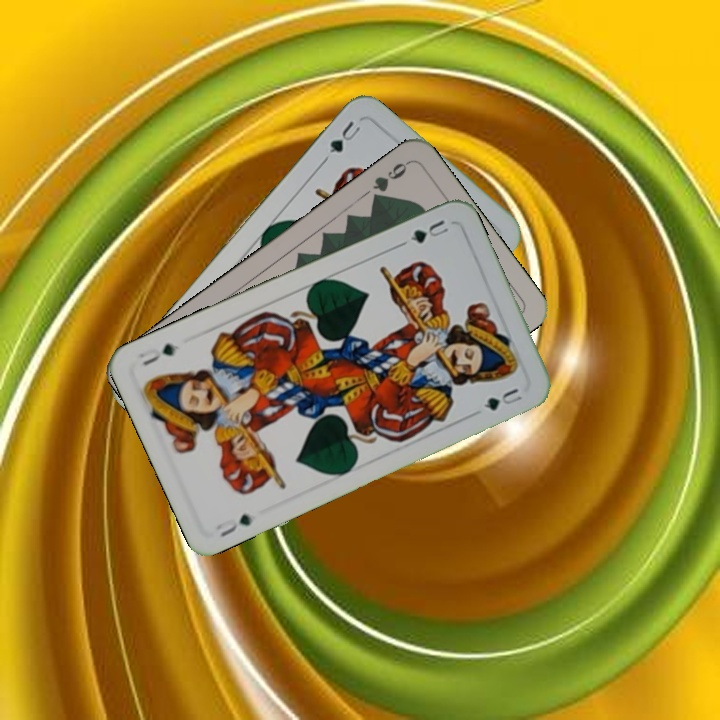G9: (368, 157, 412, 206)
GU: (319, 116, 365, 164), (397, 215, 452, 248), (211, 510, 256, 540)
